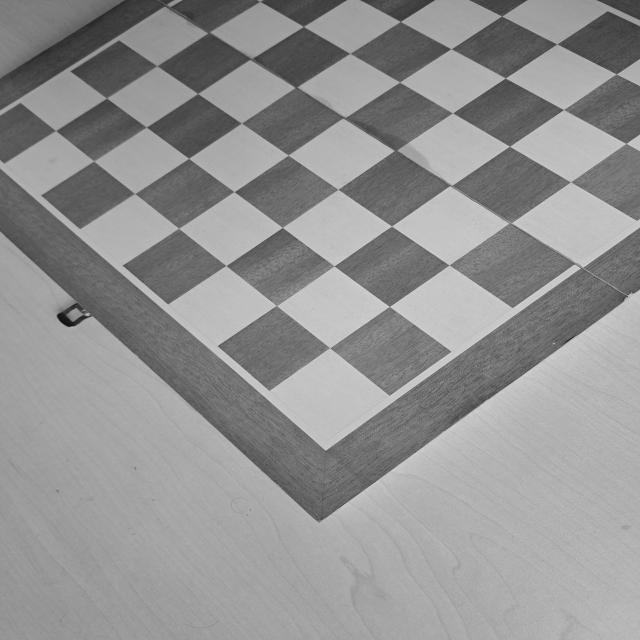chess-table-corners: (300, 419, 353, 462)
